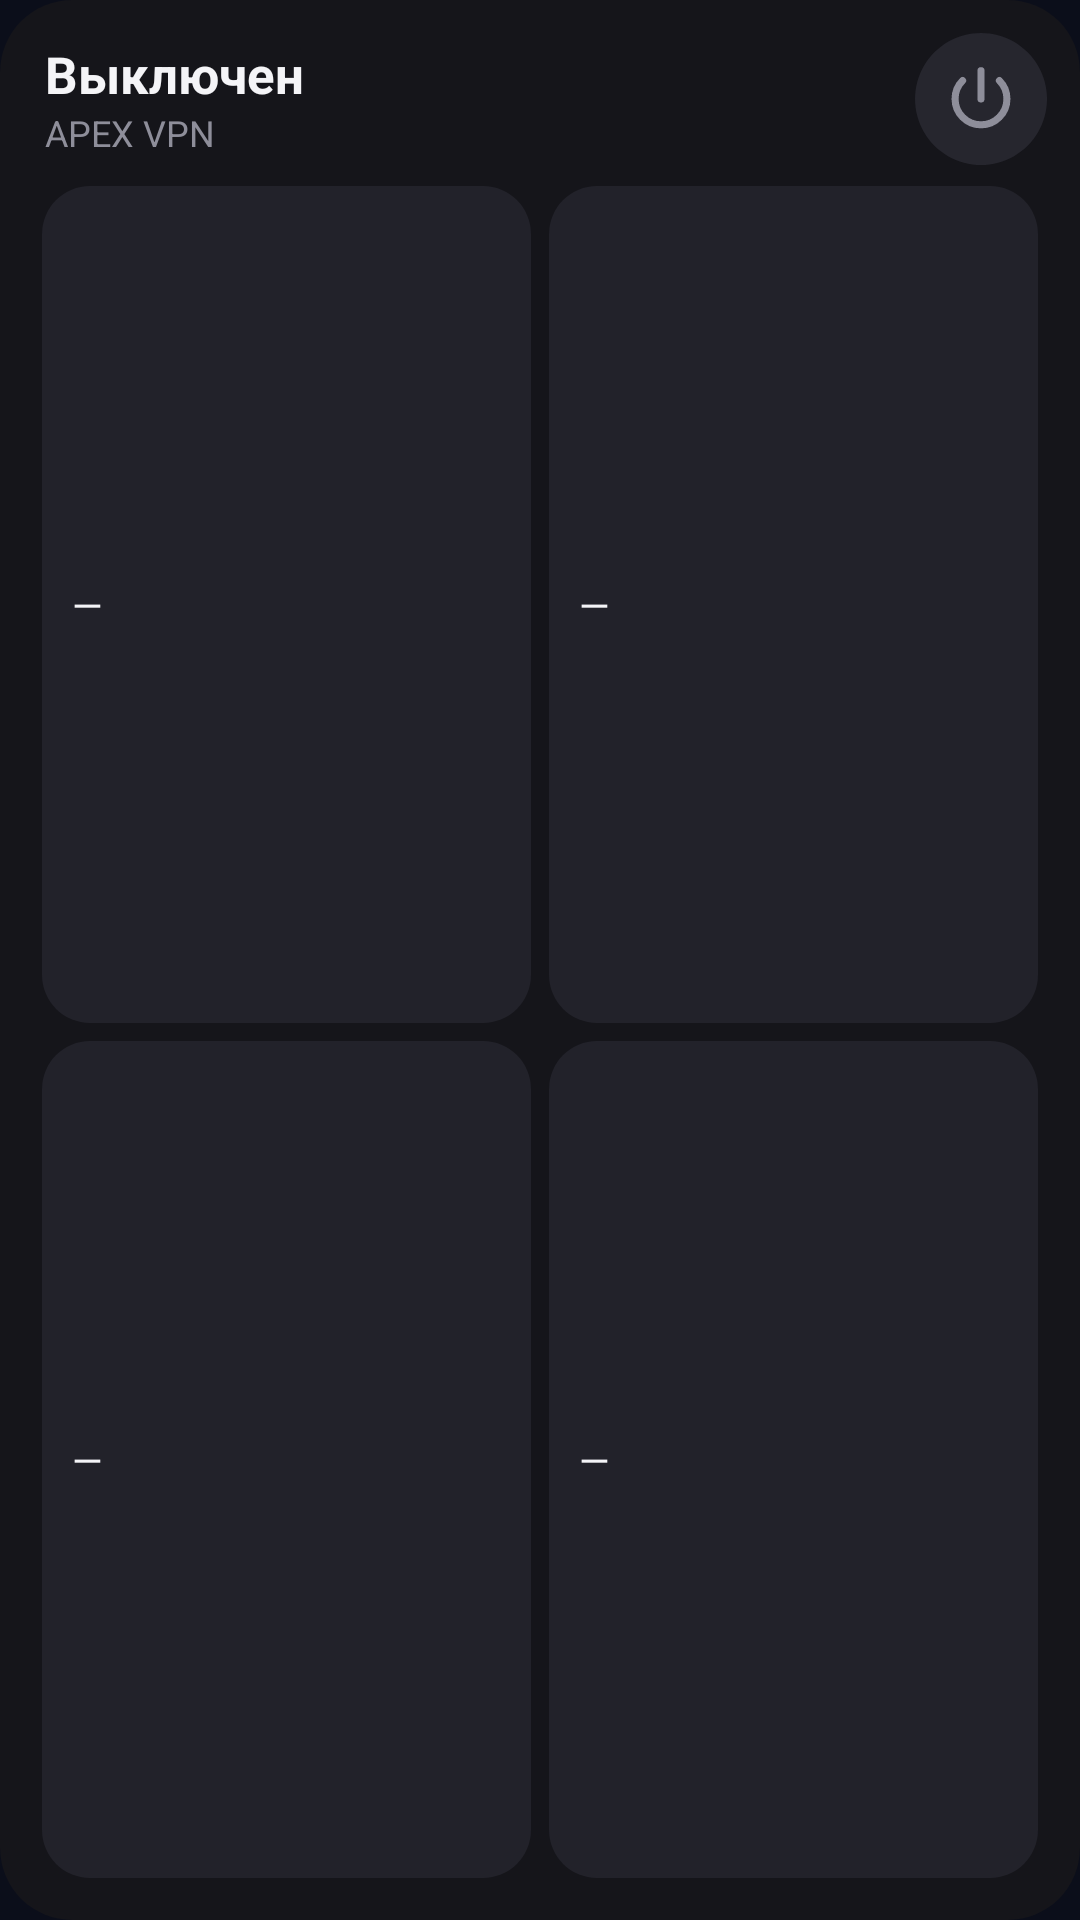

Named icons in this screenshot (1080 x 1920) and their centers, (x,y):
Включить или выключить VPN: (981,99)
